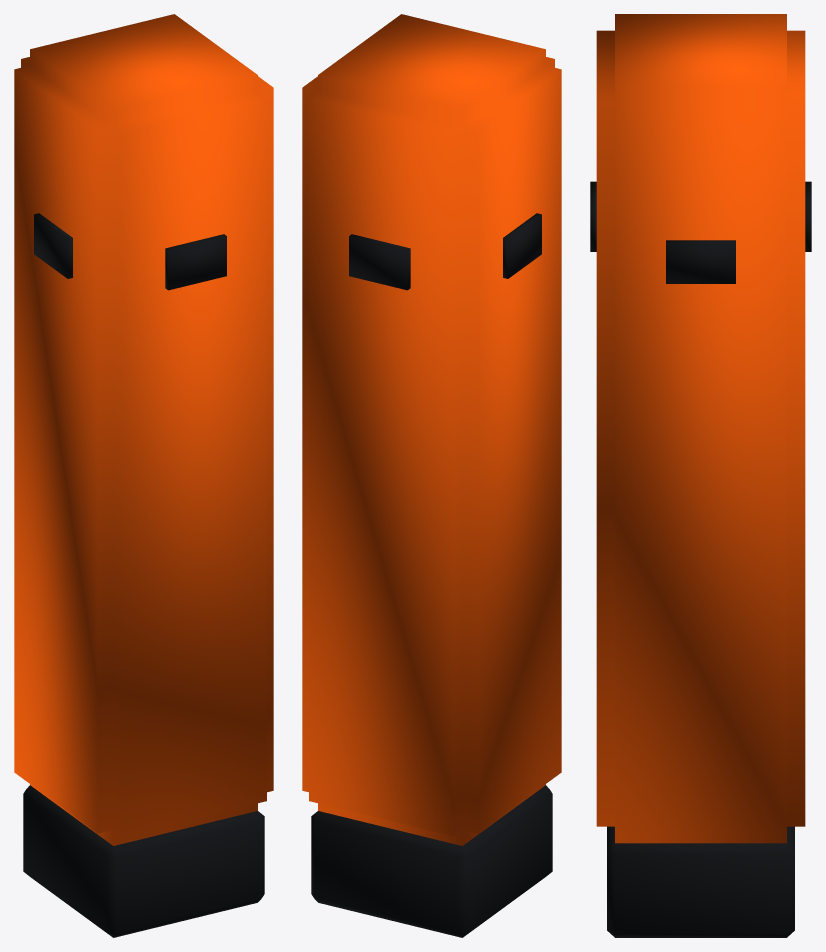
The model's file is pylon_college.glb.
3 renders of one model, left to right at view 1: azimuth 30°, elevation 25°; view 2: azimuth 150°, elevation 25°; view 3: azimuth 270°, elevation 25°, orthographic. The views are drawn at different scales.
Parts seen in each view (by area): view 1: pylon_college__prop_orange, pylon_college__prop_black; view 2: pylon_college__prop_orange, pylon_college__prop_black; view 3: pylon_college__prop_orange, pylon_college__prop_black.
Part boxes in pixels (x1=…): pylon_college__prop_orange: x1=14, y1=14, x2=273, y2=845; pylon_college__prop_black: x1=23, y1=213, x2=264, y2=937; pylon_college__prop_orange: x1=302, y1=14, x2=561, y2=845; pylon_college__prop_black: x1=311, y1=213, x2=552, y2=937; pylon_college__prop_orange: x1=596, y1=14, x2=805, y2=843; pylon_college__prop_black: x1=590, y1=181, x2=811, y2=937.
Bounding box in the file's own units: 0.1076 × 0.4572 × 0.1076.
